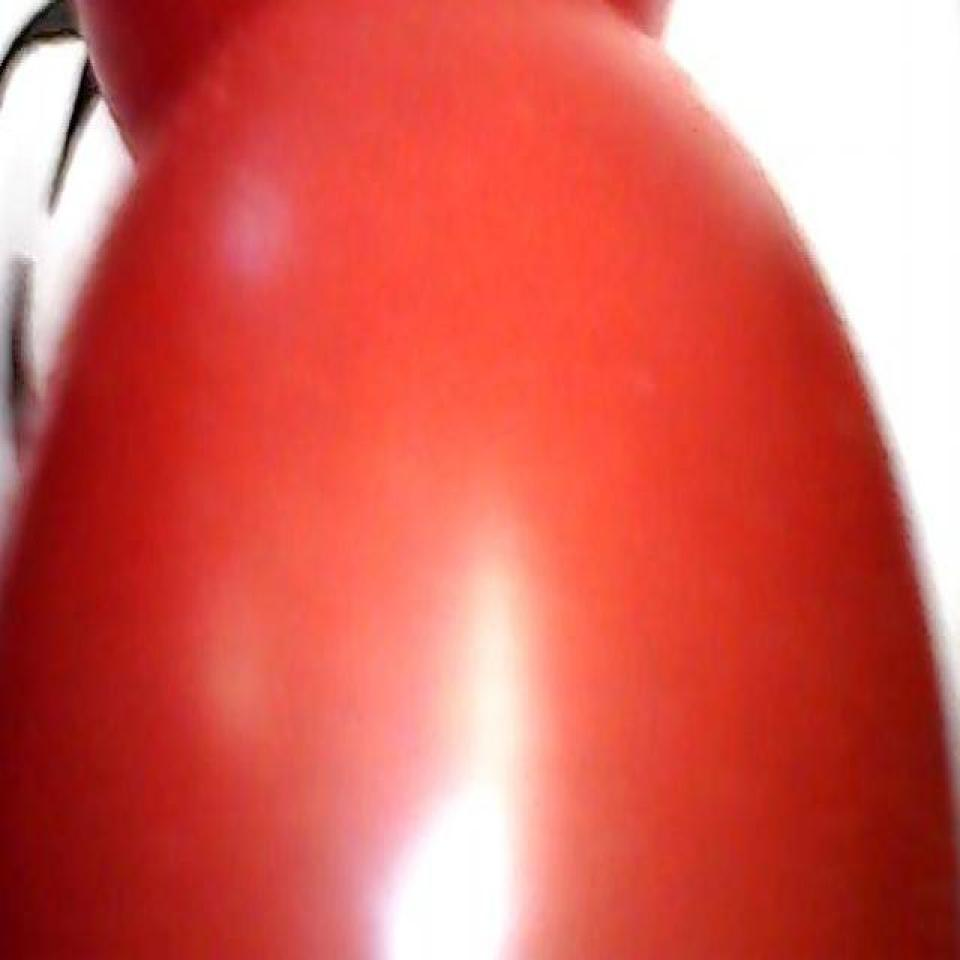Healthy: (3, 40, 959, 960)
